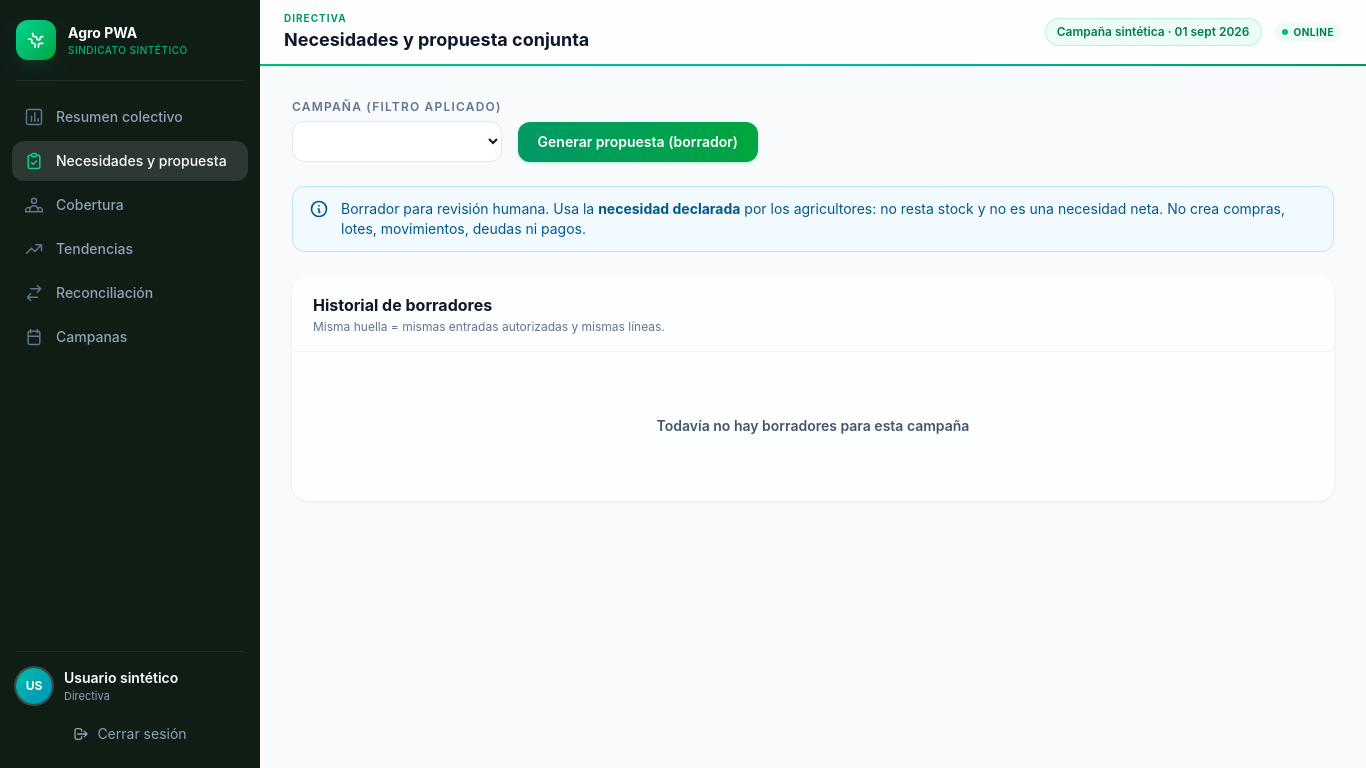
Propuesta de compra conjunta (borrador) › genera un borrador y muestra sólo lo que el servidor publicó
Click the button "Generar propuesta (borrador)". click: [638, 142]
box: [518,122,758,162]
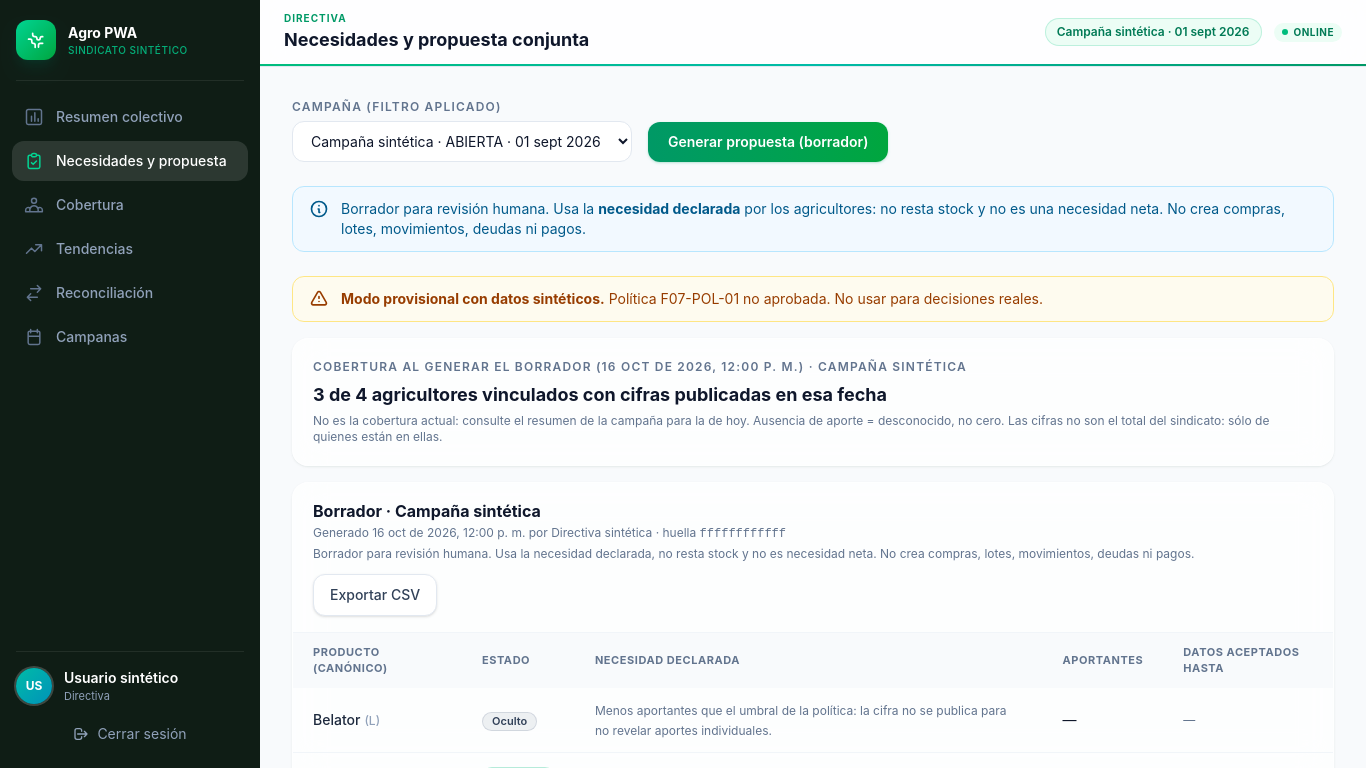
Expected: the text "no es una necesidad neta" is shown, [341,200,1285,237]
Expected: the row with test id "line-Belator-ML" shows "umbral", [595,703,1006,738]
Expected: the element with test id "coverage" shows "3 de 4", [313,384,887,405]
